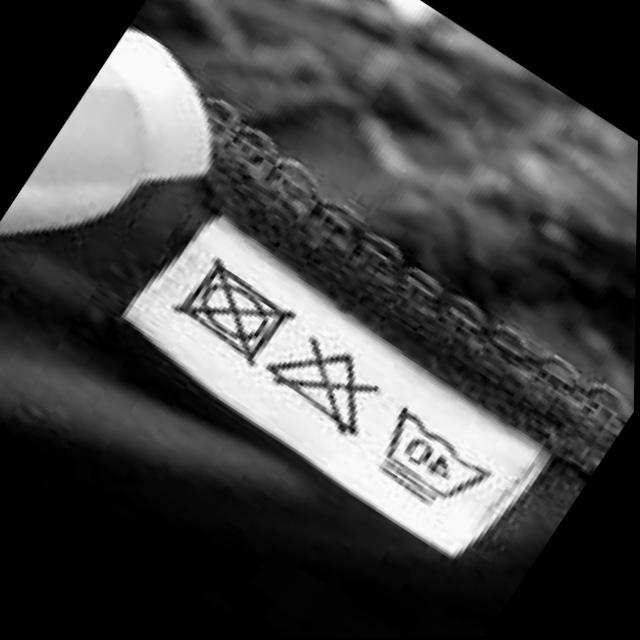40C: (377, 410, 492, 506)
DN_bleach: (269, 341, 375, 431)
DN_tumble_dry: (182, 271, 287, 358)
